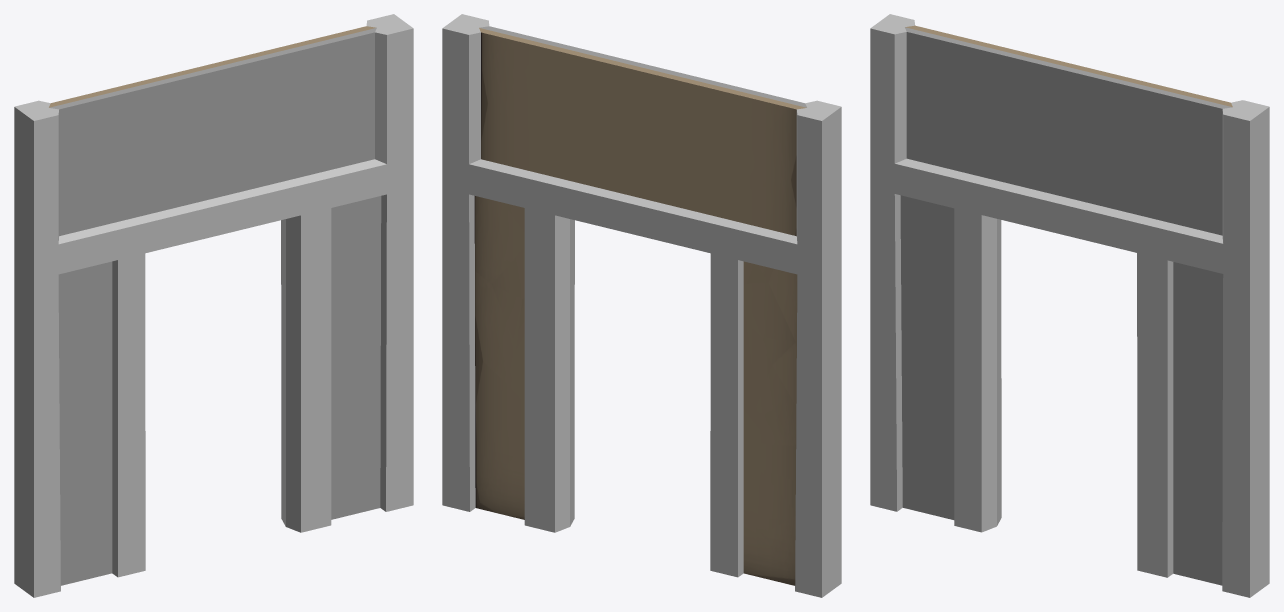
File: SM_Bld_Wall_Doorway_01.fbx
3 renders of one model, left to right at view 1: azimuth 30°, elevation 25°; view 2: azimuth 150°, elevation 25°; view 3: azimuth 330°, elevation 25°, orthographic.
Visible parts, largest first — view 1: SM_Bld_Wall_Doorway_01; view 2: SM_Bld_Wall_Doorway_01; view 3: SM_Bld_Wall_Doorway_01.
Part boxes in pixels (x1,y1,x2,y2): SM_Bld_Wall_Doorway_01: (14,14,413,597); SM_Bld_Wall_Doorway_01: (442,14,841,597); SM_Bld_Wall_Doorway_01: (870,14,1269,597).
Size of the model in its own units: 250 by 300 by 22.5.
